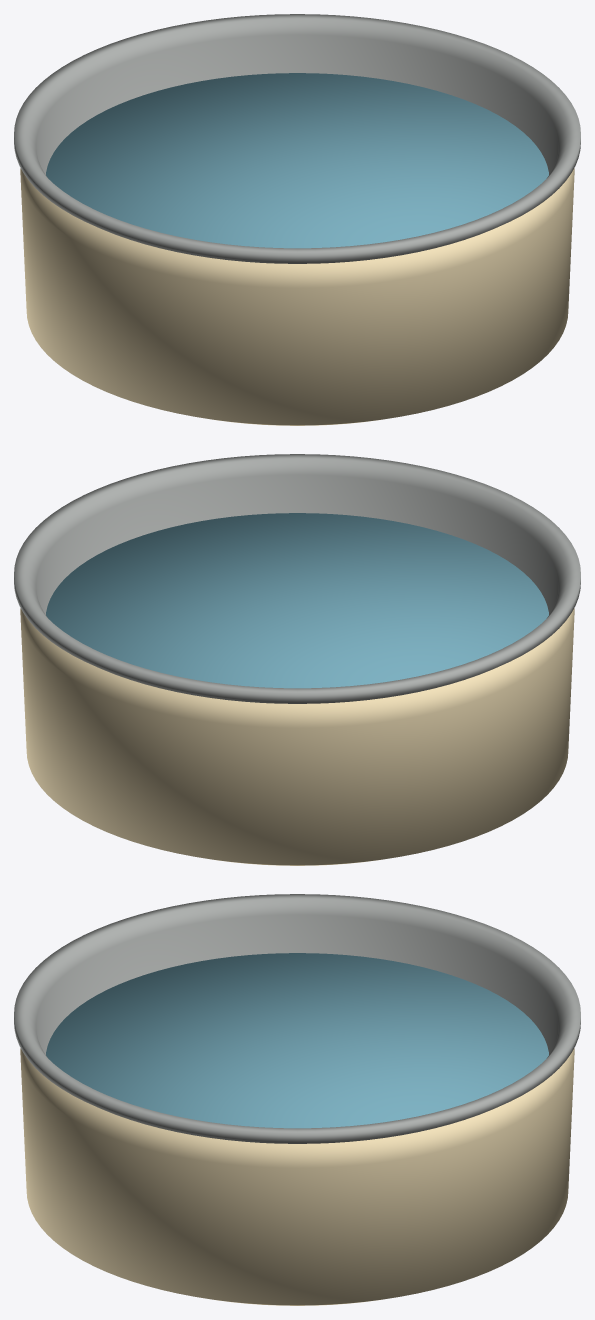
Rendered from pet-bowl-v1.glb.
The picture shows the model from 3 angles, top to bottom: view 1: azimuth 30°, elevation 25°; view 2: azimuth 150°, elevation 25°; view 3: azimuth 270°, elevation 25°; orthographic projection.
Parts seen in each view (by area): view 1: outer-shell, water-surface, steel-liner; view 2: outer-shell, water-surface, steel-liner; view 3: outer-shell, water-surface, steel-liner.
Boxes of the visible parts, x1=… form: outer-shell: x1=20, y1=168, x2=574, y2=425; water-surface: x1=46, y1=73, x2=548, y2=248; steel-liner: x1=14, y1=14, x2=580, y2=263; outer-shell: x1=20, y1=608, x2=574, y2=865; water-surface: x1=46, y1=513, x2=548, y2=688; steel-liner: x1=14, y1=454, x2=580, y2=703; outer-shell: x1=20, y1=1048, x2=574, y2=1305; water-surface: x1=46, y1=953, x2=548, y2=1128; steel-liner: x1=14, y1=894, x2=580, y2=1143.
Size of the model in its own units: 0.18 by 0.065 by 0.18.
